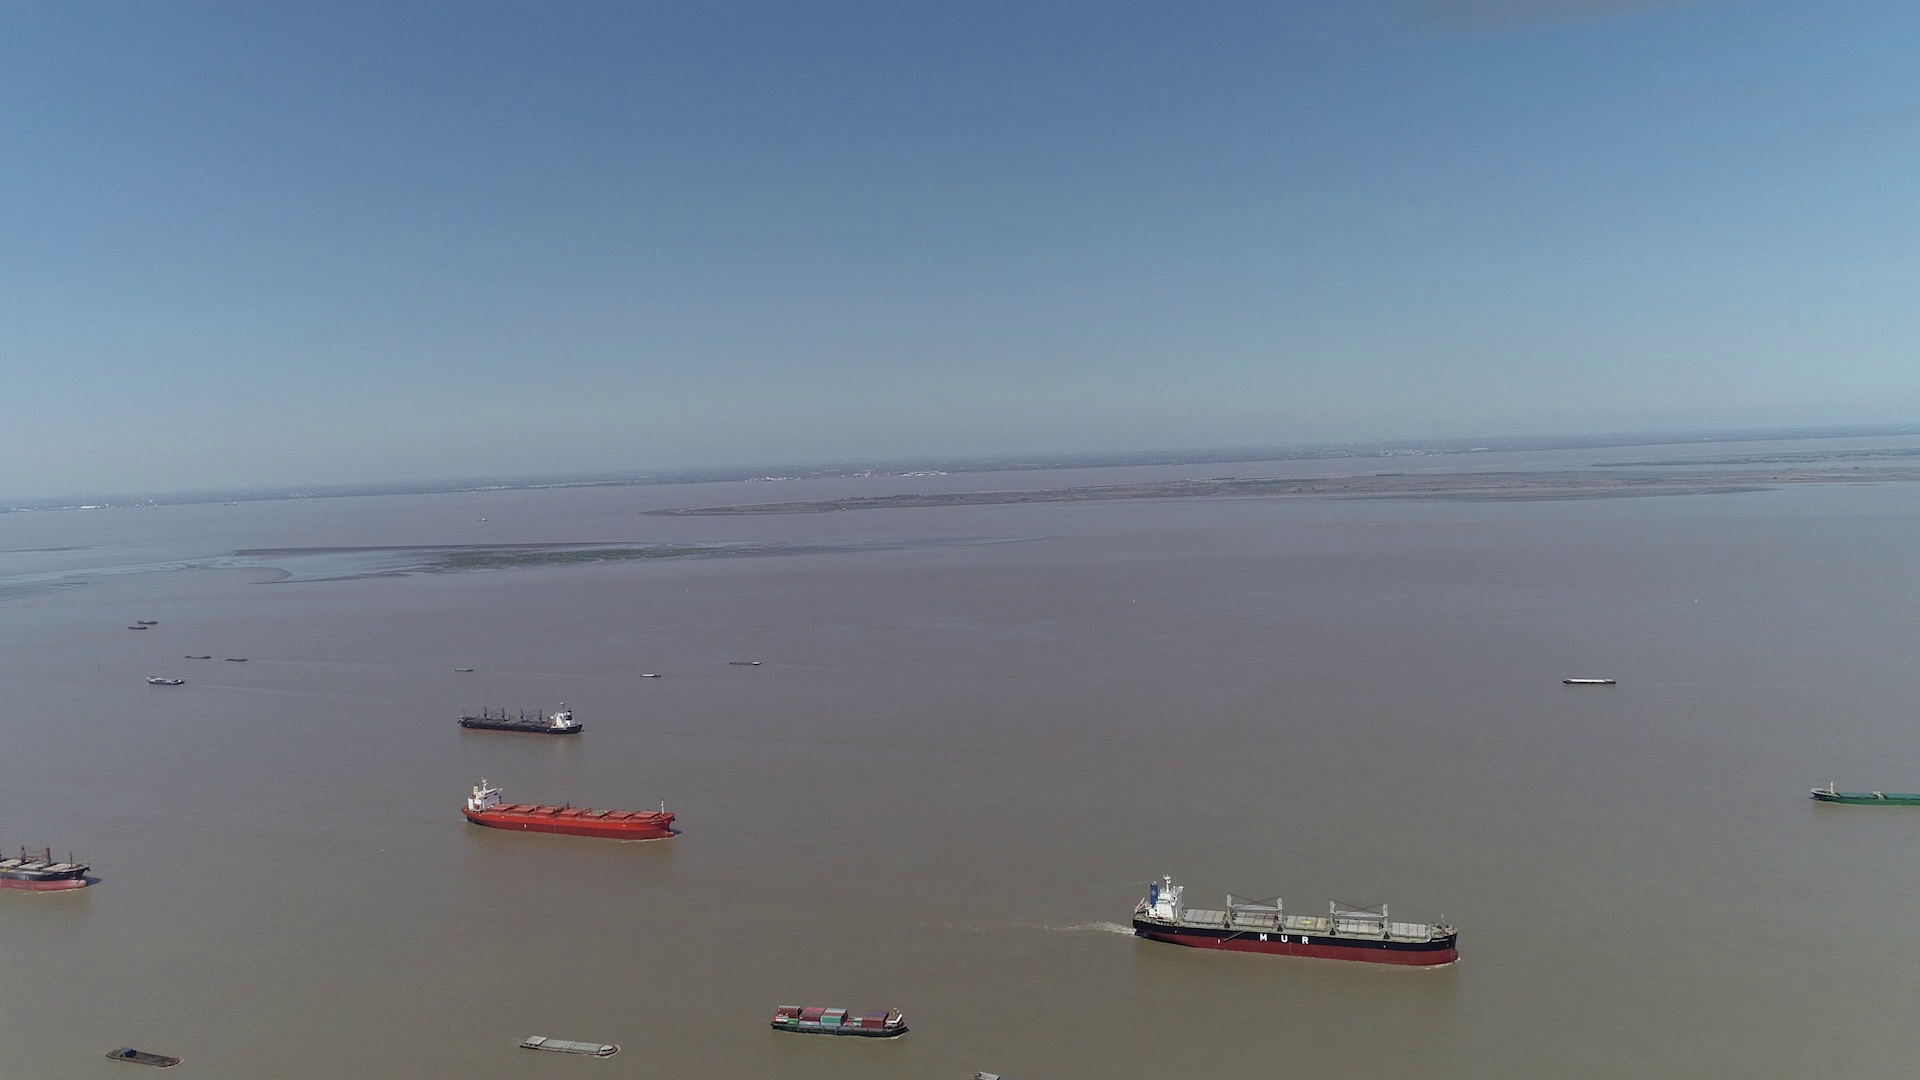ship: (1131, 874, 1460, 967), (463, 775, 678, 840), (1, 835, 94, 891), (771, 1004, 909, 1038), (460, 703, 583, 735), (1809, 781, 1919, 806), (521, 1034, 621, 1056), (105, 1047, 181, 1069), (1563, 676, 1617, 686), (145, 676, 185, 686)
